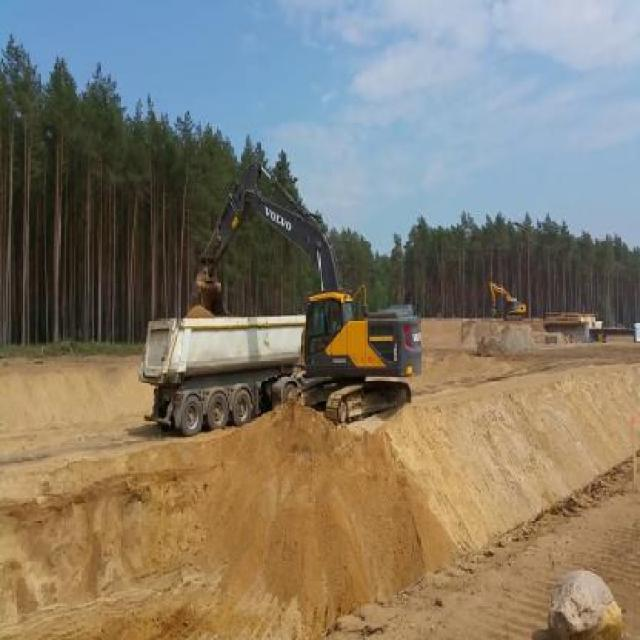dump_truck: (132, 299, 305, 435)
excavator: (187, 156, 422, 422), (486, 276, 528, 321)
